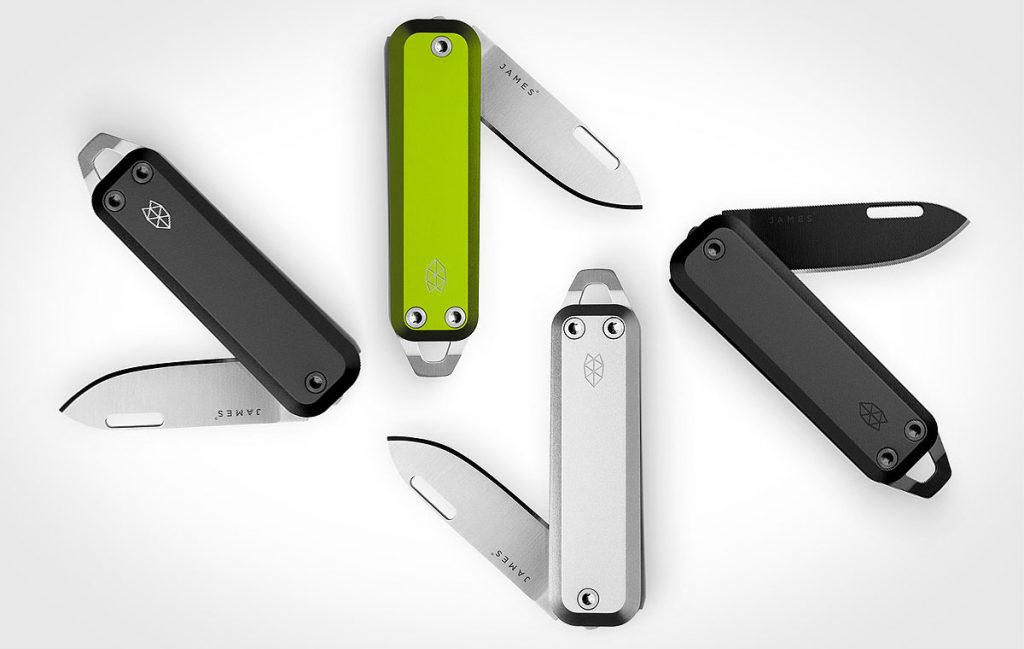knief: (48, 120, 365, 431)
